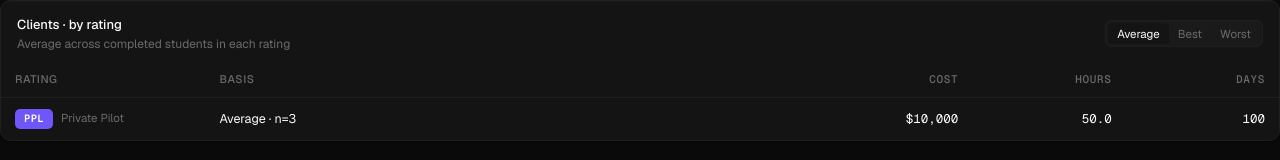
it: best = lowest-cost student, worst = highest-cost
Click the button "Best".
click(1190, 34)  # box [1169, 23, 1211, 44]
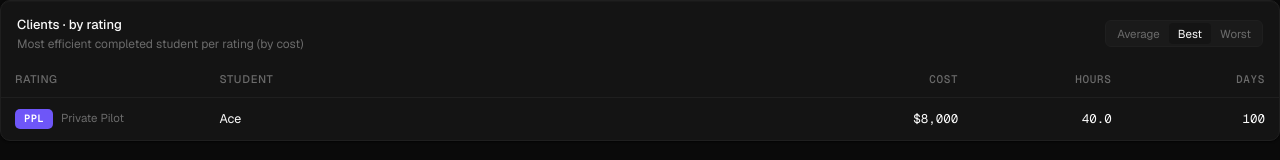
Expected: the text "Slow" is not shown
Now the text "Ace" is shown, box [206, 98, 793, 140]
Click the button "Worst".
click(1236, 34)  # box [1211, 23, 1260, 44]
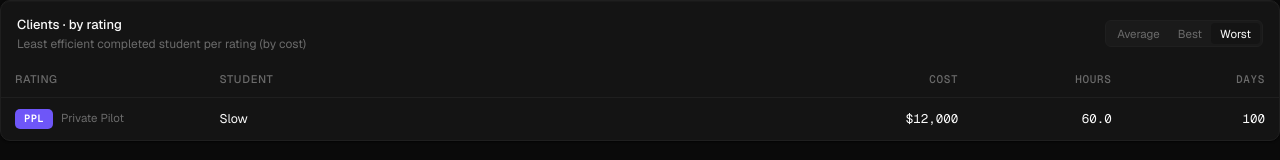
Now the text "Slow" is shown, box [206, 98, 793, 140]
Now the text "Ace" is gone
